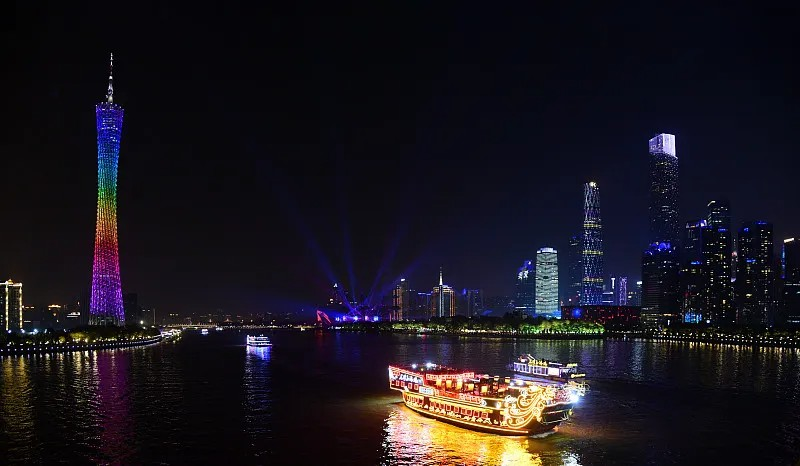Canton: (88, 44, 127, 327)
